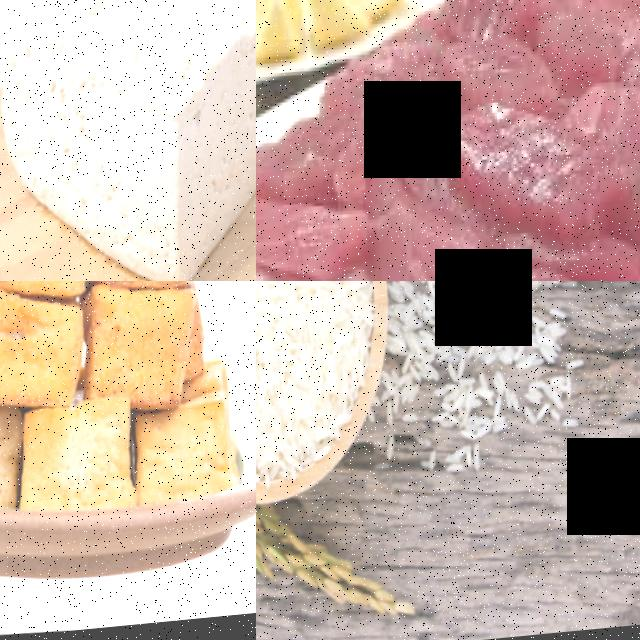tofu: (0, 0, 256, 281), (78, 281, 198, 422), (17, 399, 136, 522), (131, 399, 237, 508), (0, 284, 83, 423), (0, 402, 21, 512)
tuna: (437, 86, 640, 265), (256, 175, 370, 281)
white rice: (256, 281, 356, 480)
